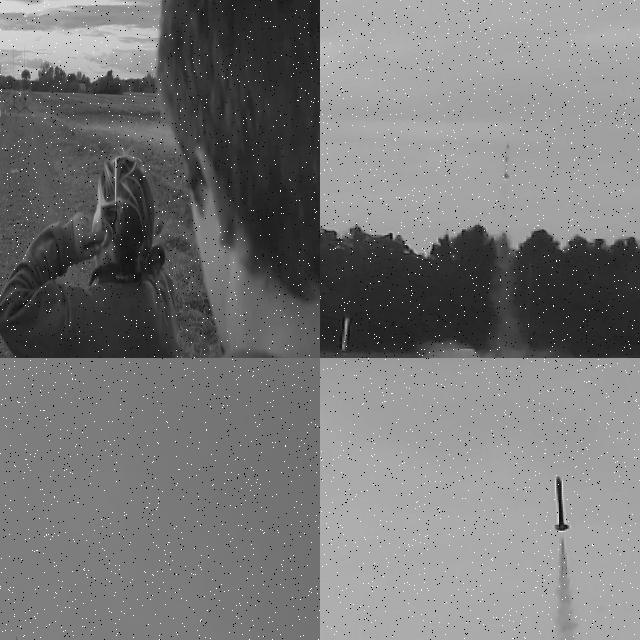Rocket: (553, 476, 570, 532), (340, 316, 349, 352), (502, 142, 510, 180), (16, 635, 18, 640)
